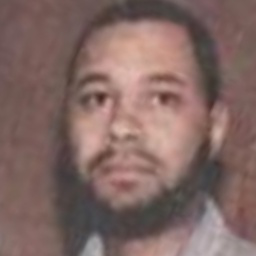Person: (18, 1, 256, 254)
